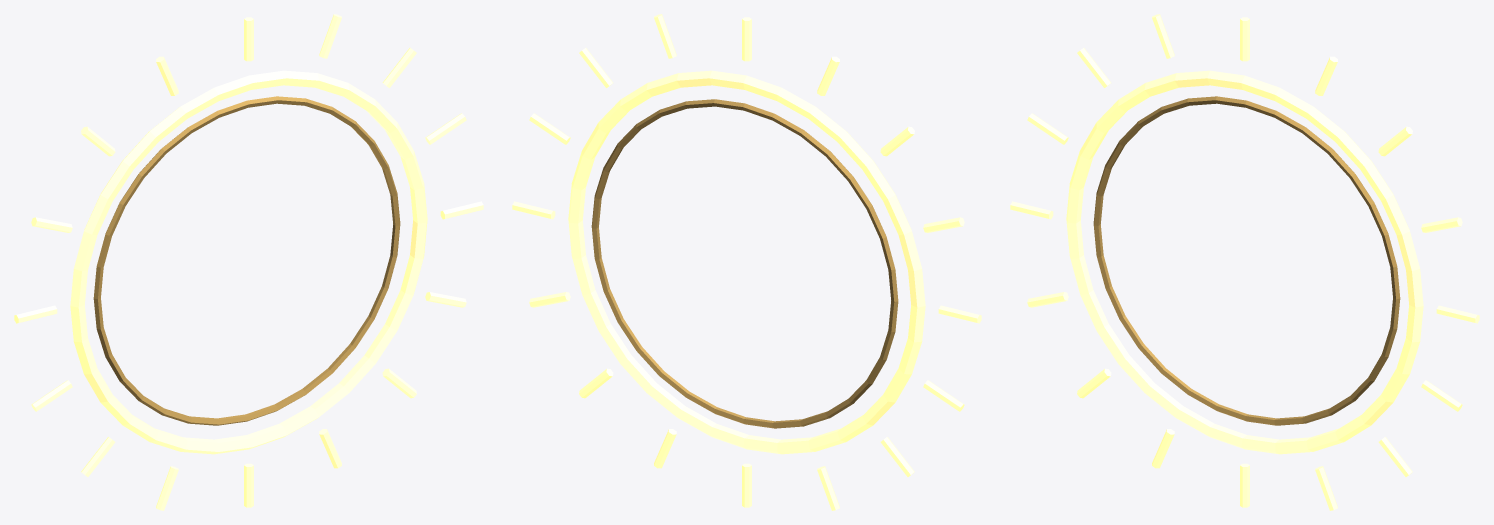
The model's file is d5_celestial_halo.glb.
The picture shows the model from 3 angles, left to right: view 1: azimuth 30°, elevation 25°; view 2: azimuth 150°, elevation 25°; view 3: azimuth 330°, elevation 25°; orthographic projection.
Parts seen in each view (by area): view 1: d5_celestial_halo__d5-emissive-gold, d5_celestial_halo__d5-gold; view 2: d5_celestial_halo__d5-emissive-gold, d5_celestial_halo__d5-gold; view 3: d5_celestial_halo__d5-emissive-gold, d5_celestial_halo__d5-gold.
Part boxes in pixels (bbox=[...]): d5_celestial_halo__d5-emissive-gold: bbox=[14, 14, 483, 510]; d5_celestial_halo__d5-gold: bbox=[93, 96, 400, 425]; d5_celestial_halo__d5-emissive-gold: bbox=[512, 14, 981, 510]; d5_celestial_halo__d5-gold: bbox=[591, 99, 898, 428]; d5_celestial_halo__d5-emissive-gold: bbox=[1010, 14, 1479, 510]; d5_celestial_halo__d5-gold: bbox=[1093, 96, 1400, 425].
Size of the model in its own units: 43.26 by 43.26 by 1.21.
